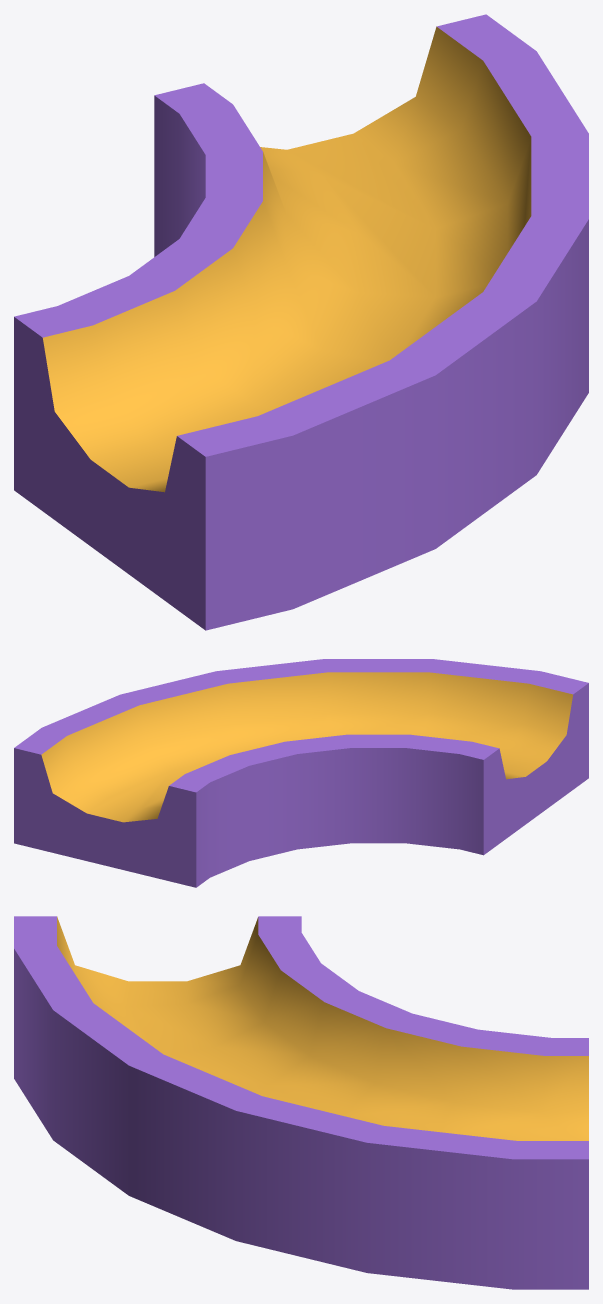
Rendered from curve-col.glb.
3 renders of one model, top to bottom at view 1: azimuth 30°, elevation 25°; view 2: azimuth 150°, elevation 25°; view 3: azimuth 270°, elevation 25°, orthographic. The views are drawn at different scales.
Visible parts, largest first — view 1: curve-col; view 2: curve-col; view 3: curve-col.
Boxes of the visible parts, <box> form: curve-col: <box>14,14,588,630</box>; curve-col: <box>14,659,588,887</box>; curve-col: <box>14,916,588,1289</box>.
Bounding box in the file's own units: 2 × 0.5 × 2.
1 material, 1 textured.
